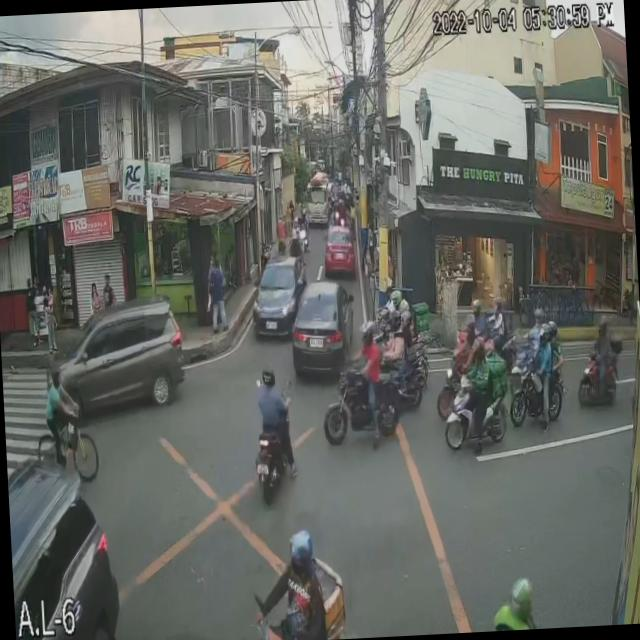full: (359, 319, 376, 348), (262, 362, 278, 388), (536, 320, 549, 348), (388, 310, 402, 332), (597, 313, 609, 334), (548, 321, 558, 339), (494, 299, 502, 313)
half: (288, 532, 314, 575), (401, 310, 414, 332), (474, 336, 486, 358), (390, 289, 402, 307), (472, 299, 482, 317)
